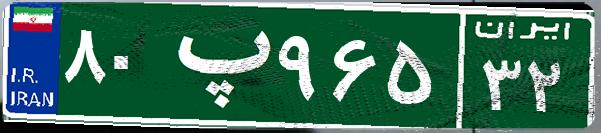0: (110, 28, 158, 105)
2: (525, 38, 570, 115)
3: (475, 38, 525, 113)
5: (385, 28, 445, 110)
6: (330, 28, 385, 110)
8: (57, 26, 110, 107)
9: (273, 28, 330, 110)
پ: (158, 15, 273, 115)
